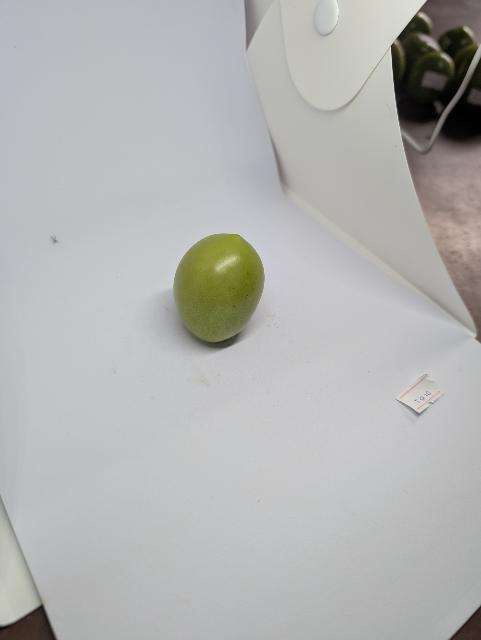green: (171, 231, 267, 345)
